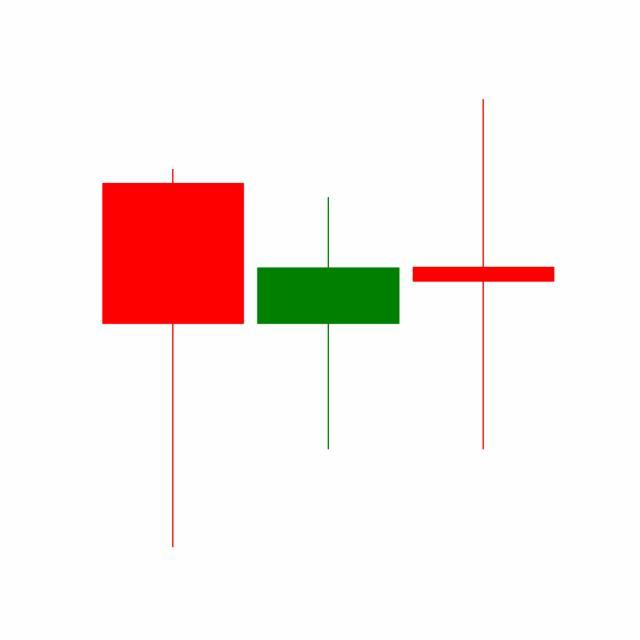Spinning Top: (250, 195, 407, 453)
